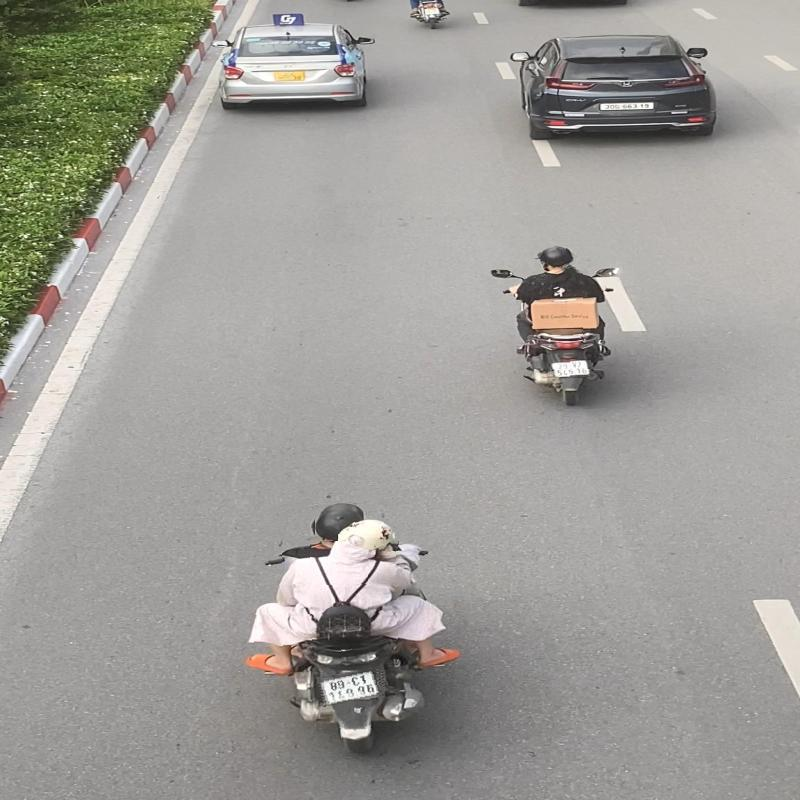helmet: (338, 518, 400, 550), (315, 503, 367, 541), (534, 245, 576, 270)
licenseplate: (316, 670, 383, 705), (548, 360, 591, 378)
motorcyclist: (237, 498, 471, 757), (486, 243, 622, 408)
